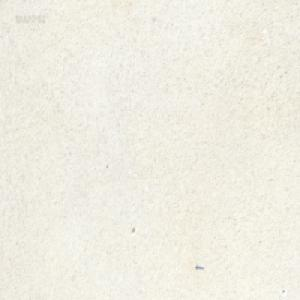Nail: (194, 263, 204, 269)
